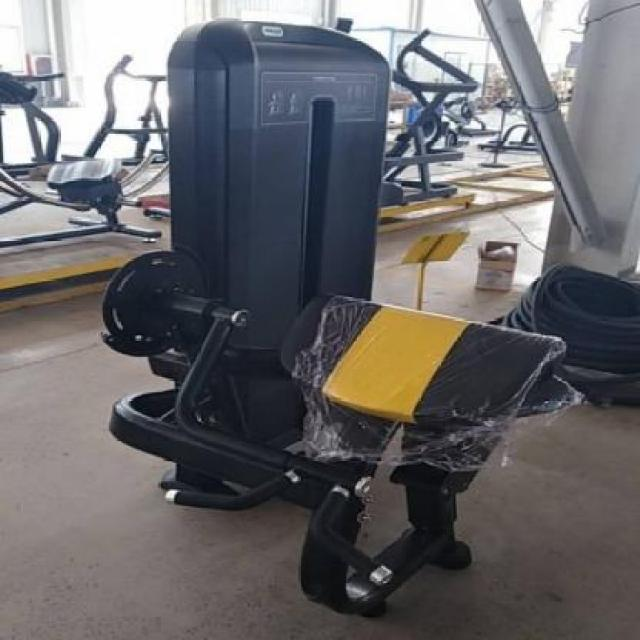arm curl machine: (97, 240, 580, 615)
